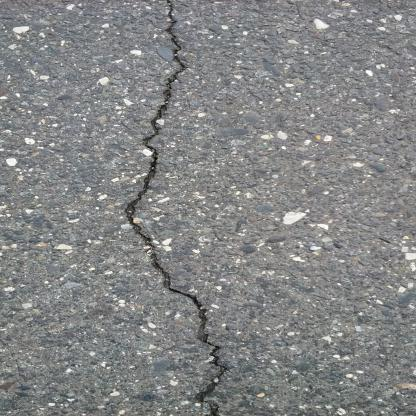Cracks: (107, 0, 245, 415)
